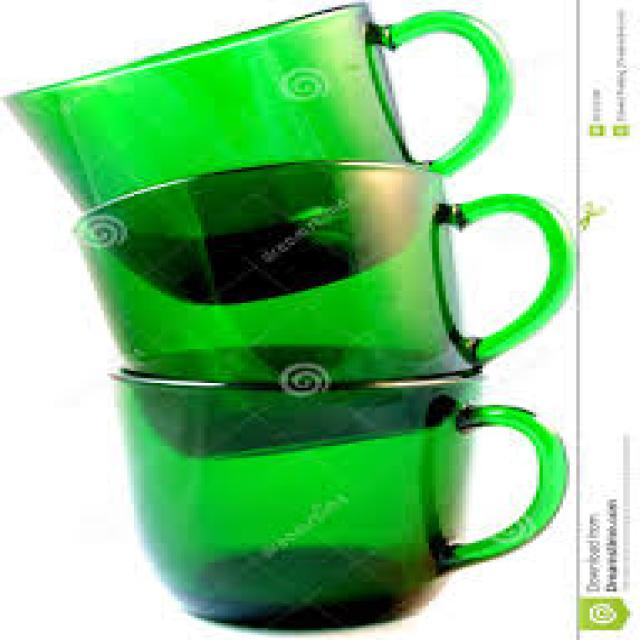glass: (0, 0, 502, 305), (70, 160, 570, 458), (108, 342, 567, 630)
